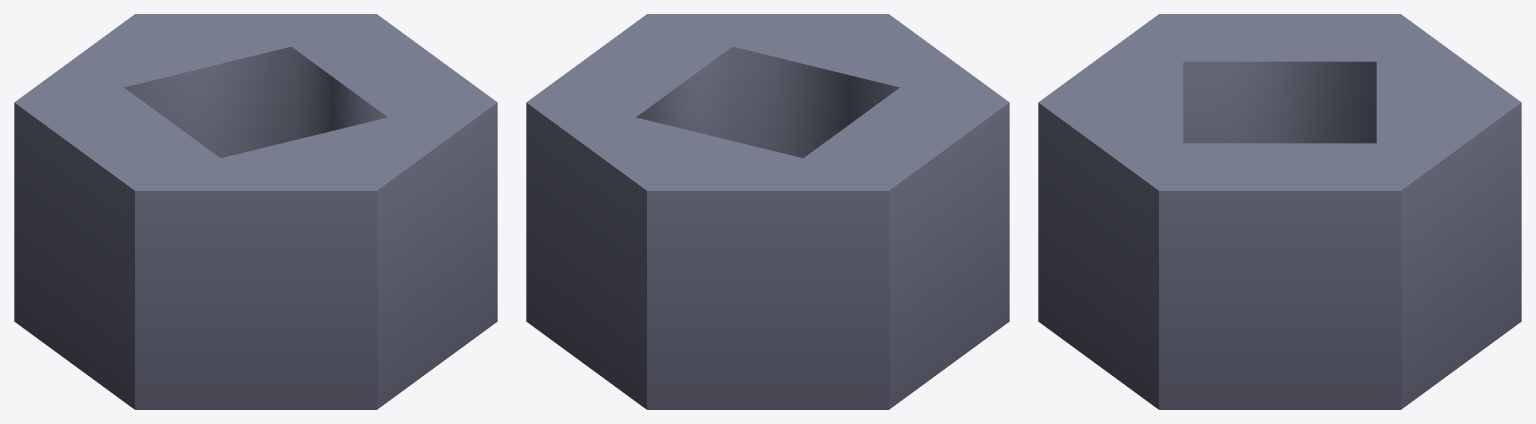
Rendered from debris-nut.glb.
3 views of the same model, side by side, from view 1: azimuth 30°, elevation 25°; view 2: azimuth 150°, elevation 25°; view 3: azimuth 270°, elevation 25° (orthographic).
Parts seen in each view (by area): view 1: debris-nut; view 2: debris-nut; view 3: debris-nut.
Part boxes in pixels (x1=…): debris-nut: x1=14, y1=14, x2=497, y2=409; debris-nut: x1=526, y1=14, x2=1009, y2=409; debris-nut: x1=1038, y1=14, x2=1521, y2=409.
Bounding box in the file's own units: 0.1732 × 0.1 × 0.2.
Materials: 1 (1 with a texture image).
